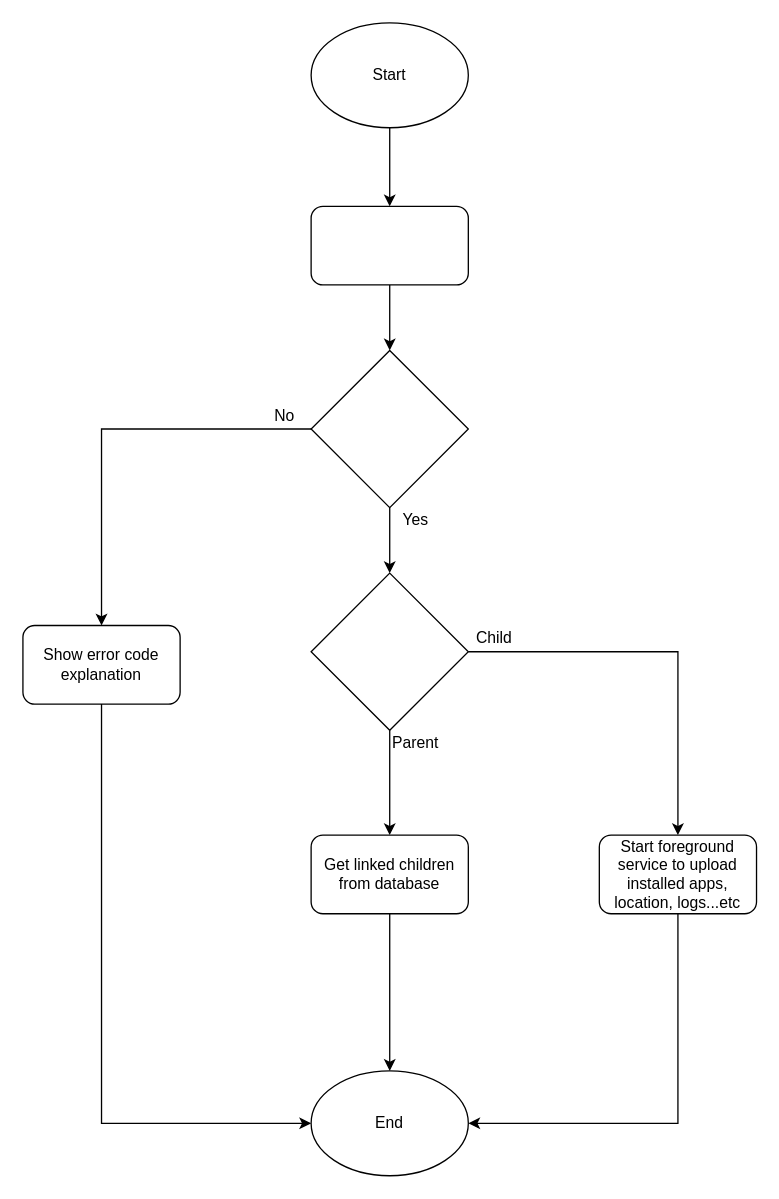
The diagram is 779 pixels wide and 1199 high, and some of its shapes have lost their labels. The box of each missing label's shape, as (x1, y1, x2, y2) in pixels:
Authorized: (310, 349, 468, 508)
Check account mode: (310, 572, 468, 730)
Login: (310, 205, 468, 285)
